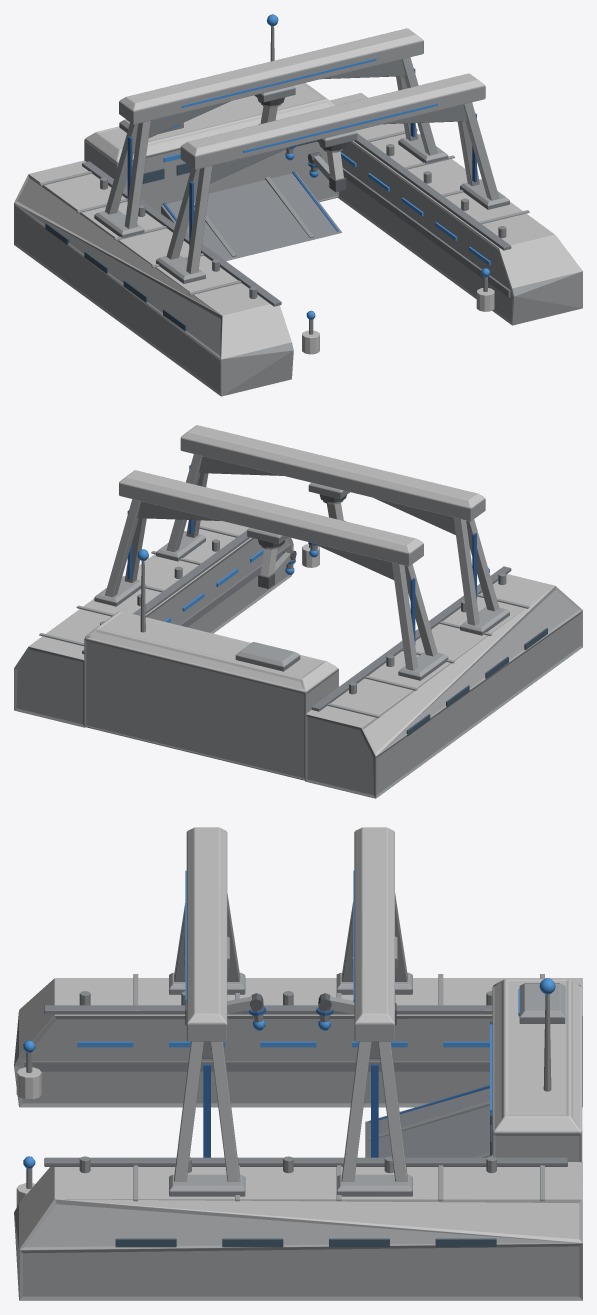
Rendered from lattice_shipyard.glb.
The picture shows the model from 3 angles, top to bottom: view 1: azimuth 30°, elevation 25°; view 2: azimuth 150°, elevation 25°; view 3: azimuth 270°, elevation 25°; orthographic projection. The views are drawn at different scales.
Parts seen in each view (by area): view 1: Body; view 2: Body; view 3: Body.
Boxes of the visible parts, x1,y1,x2,y2 form: Body: (14,14,582,396); Body: (14,425,582,798); Body: (14,827,582,1300).
Bounding box in the file's own units: 22.46 × 11.3 × 22.39.
